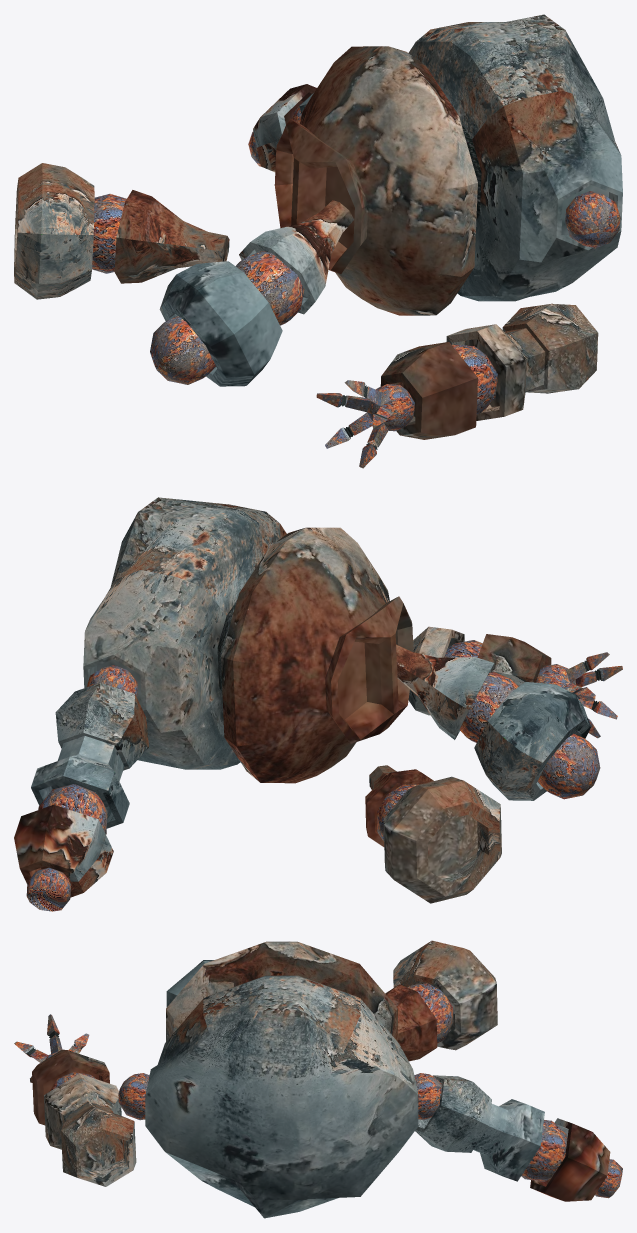
File: BrokenDollObj.fbx
3 renders of one model, top to bottom at view 1: azimuth 30°, elevation 25°; view 2: azimuth 150°, elevation 25°; view 3: azimuth 270°, elevation 25°, orthographic. The views are drawn at different scales.
Parts seen in each view (by area): view 1: BrokenDollObj; view 2: BrokenDollObj; view 3: BrokenDollObj.
Part boxes in pixels (<box>): BrokenDollObj: <box>14,14,622,468</box>; BrokenDollObj: <box>14,497,622,911</box>; BrokenDollObj: <box>14,940,622,1218</box>.
Size of the model in its own units: 121 by 65.67 by 160.
